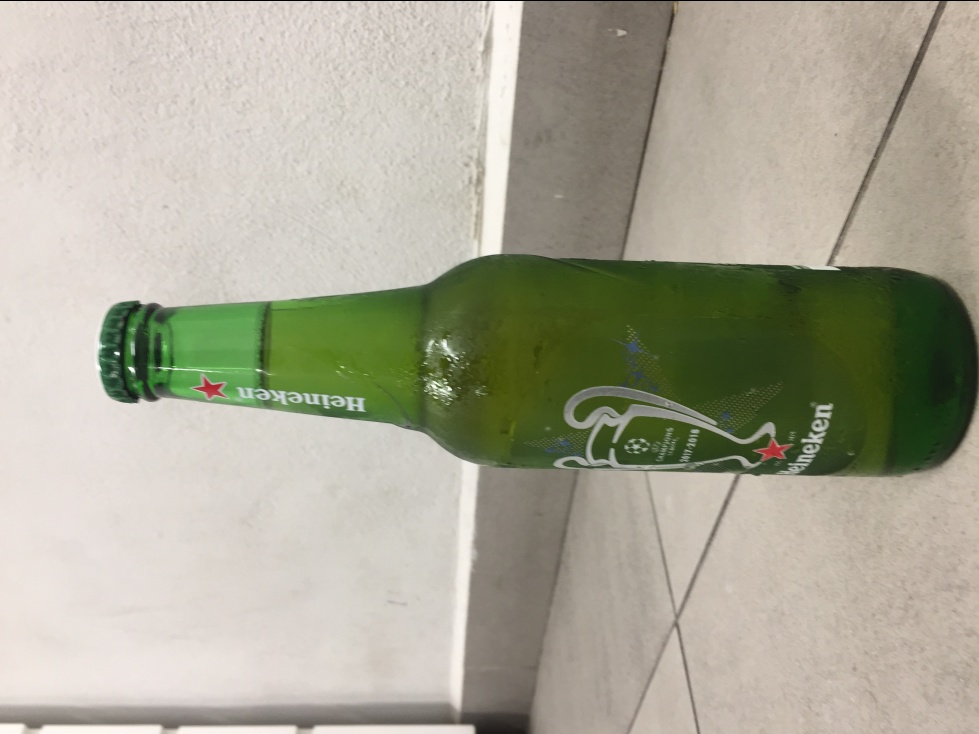heineken: (97, 251, 979, 479)
